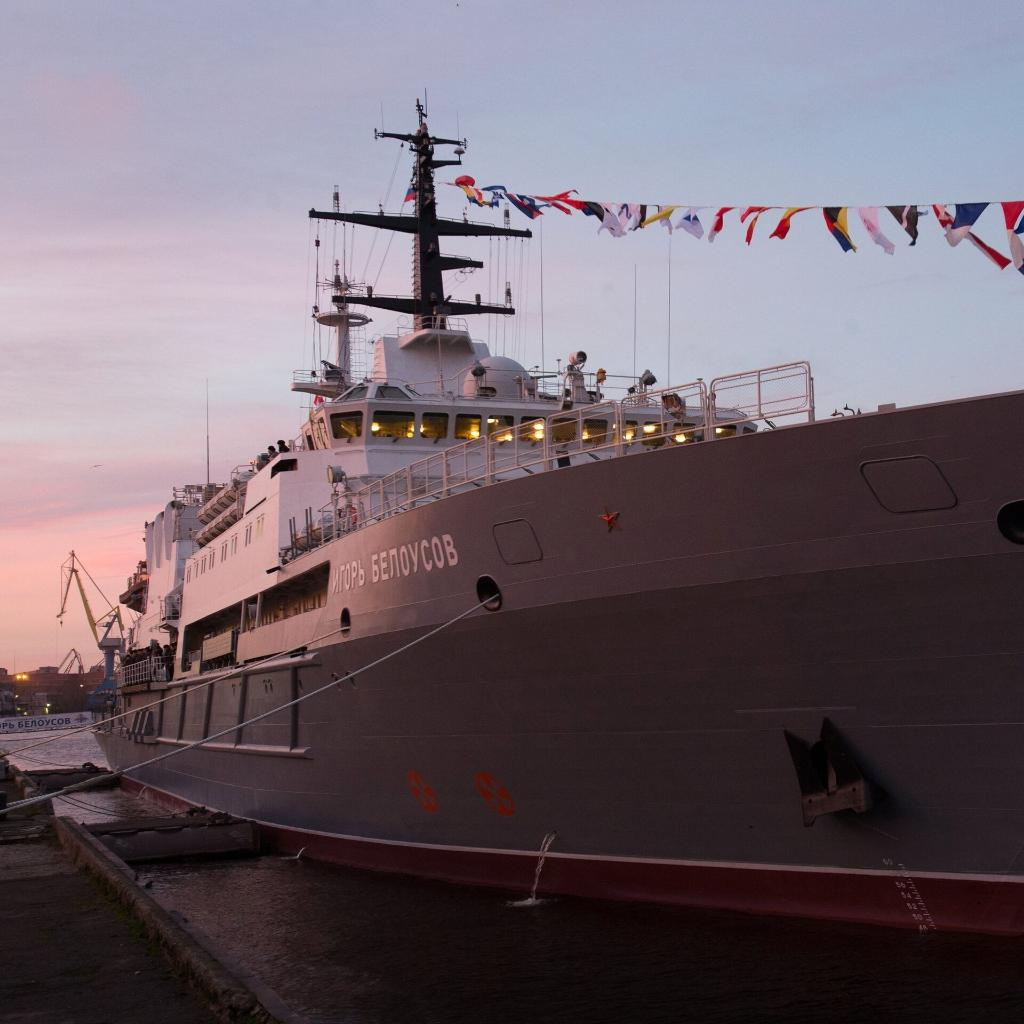Warship: (76, 98, 1024, 912)
